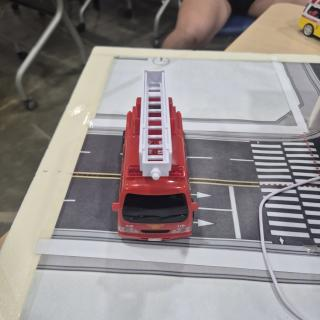Fire_truck: (112, 68, 198, 241)
